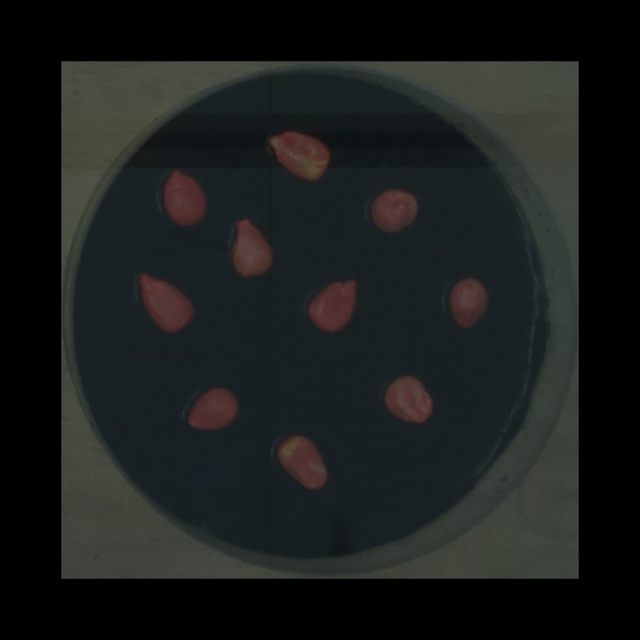Zea mays: (132, 267, 198, 338), (263, 125, 335, 187), (270, 429, 332, 496), (302, 272, 362, 337), (226, 212, 280, 283), (158, 162, 213, 231), (378, 369, 439, 429), (180, 382, 243, 437), (365, 183, 422, 238), (445, 271, 492, 335)
